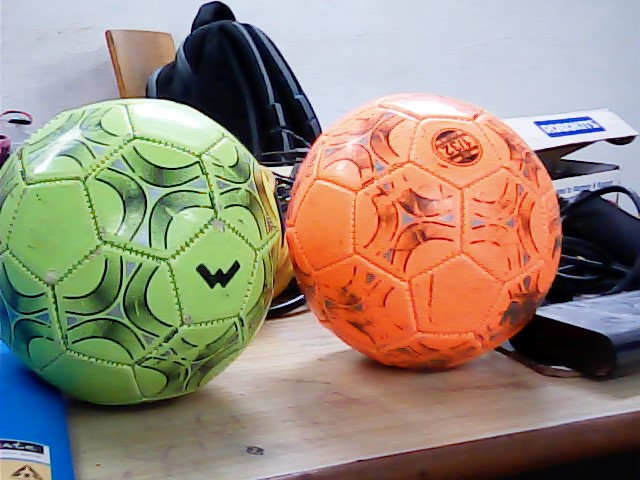Green_ball: (6, 98, 289, 412)
Orange_ball: (280, 89, 577, 383)
